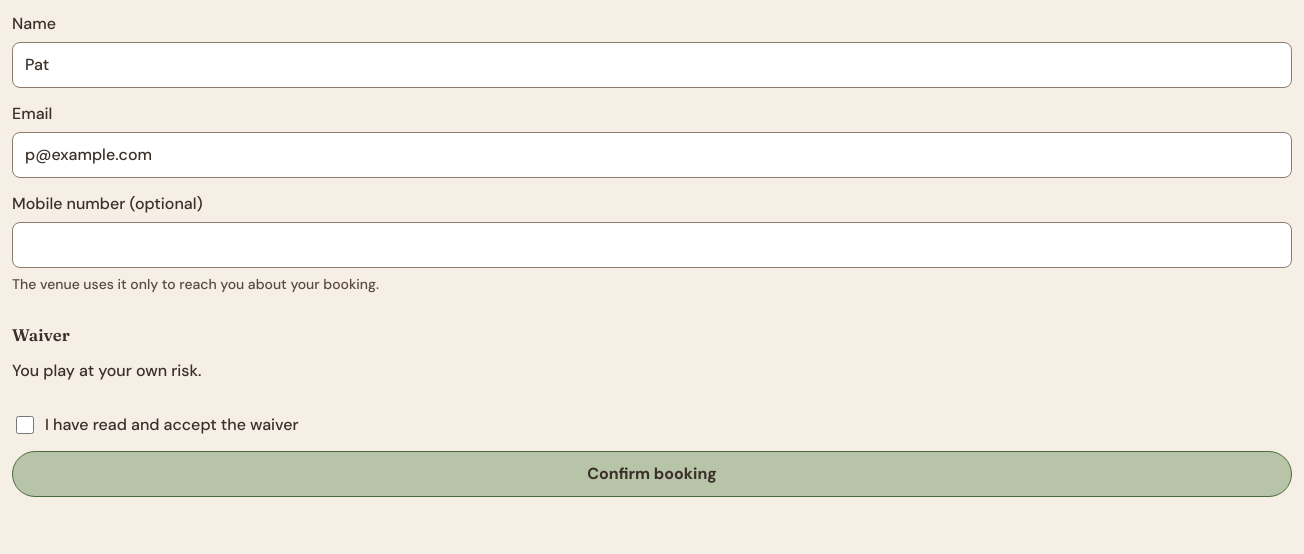
Test: CheckoutForm waiver › refuses to submit unticked and shows the error
The width and height of the screenshot is (1304, 554).
Click the button "Confirm booking".
click(652, 474)  # box [12,451,1292,497]
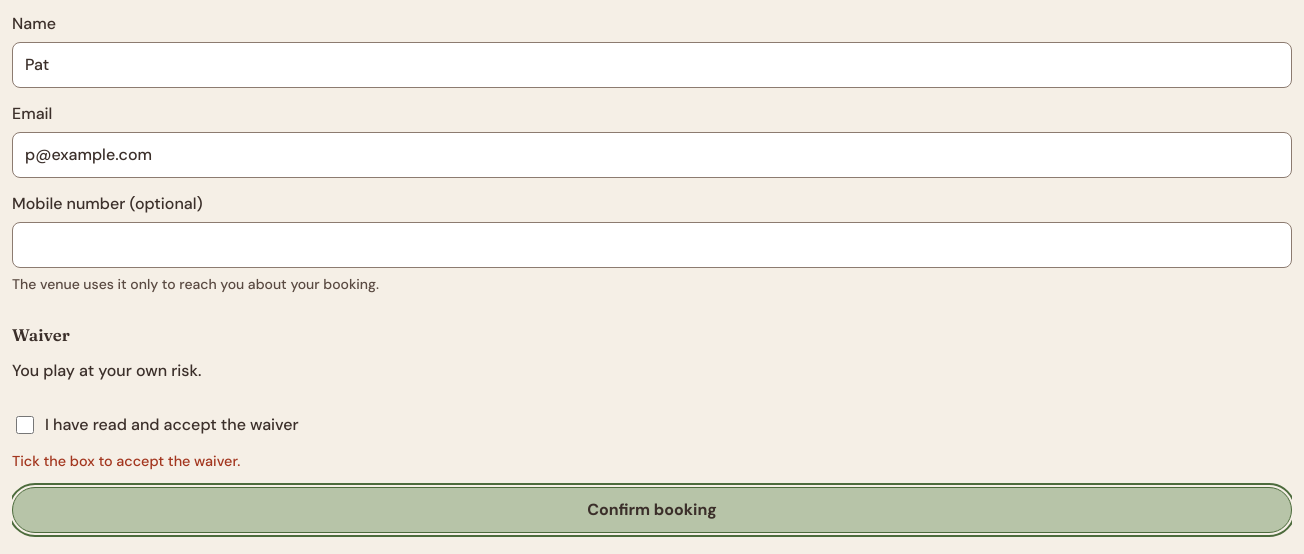
Expected: the text "Tick the box to accept the waiver." is shown, [12,452,240,470]
